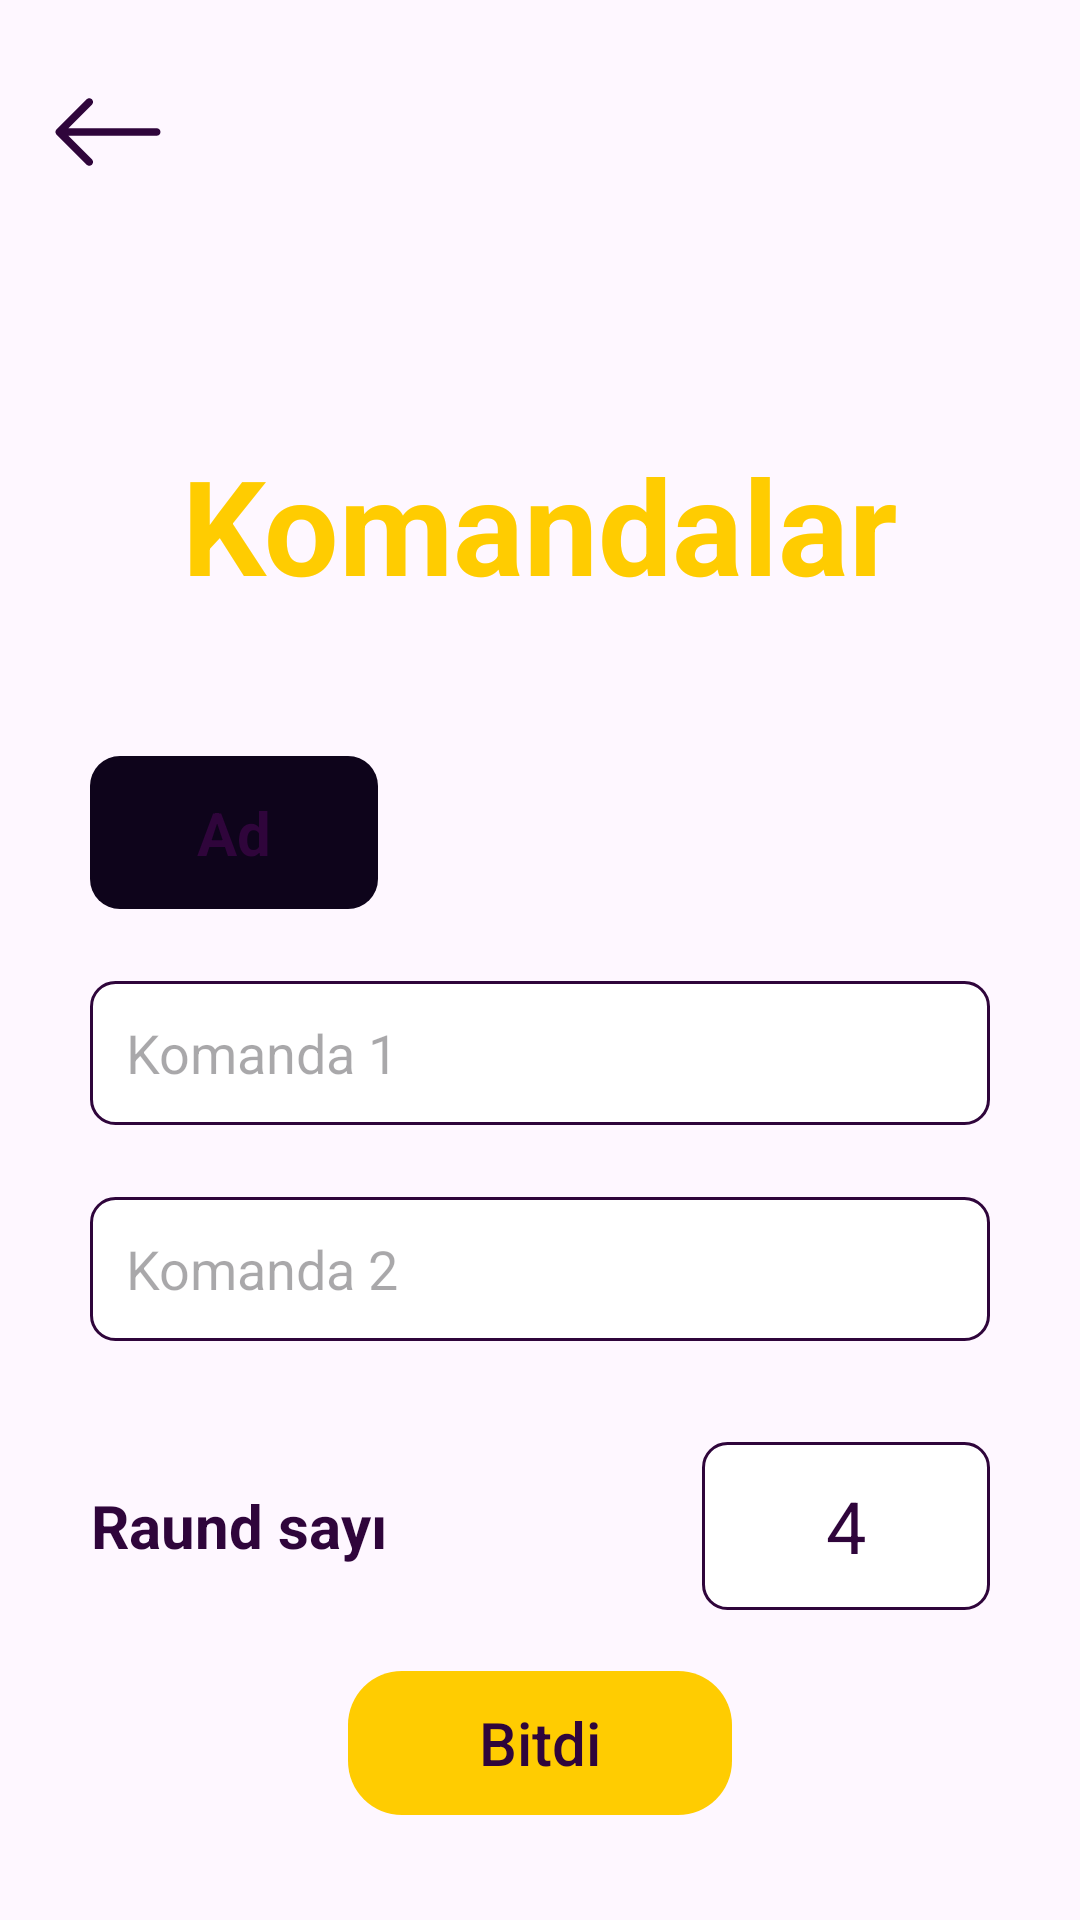

Where to tap for icons on this 1080px×1920px app screen, as [x,y]:
back: [108,132]
